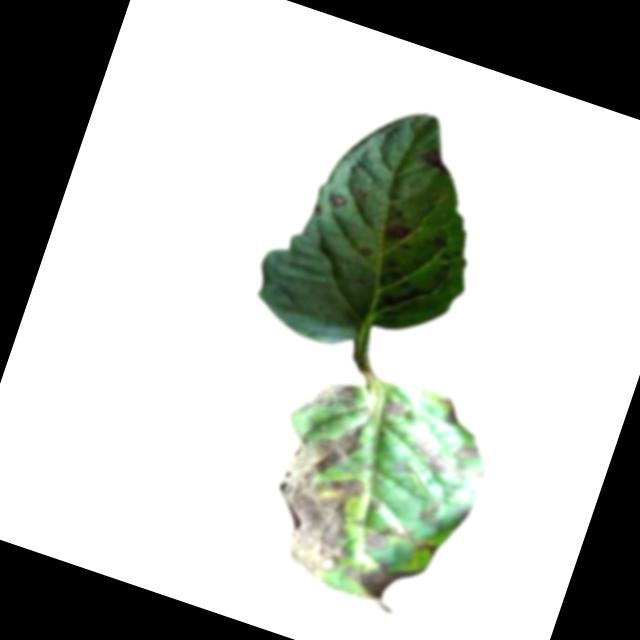Early_blight: (256, 408, 383, 583), (335, 549, 419, 618), (289, 363, 366, 432), (409, 427, 494, 486), (357, 515, 440, 572), (378, 395, 408, 422), (327, 190, 349, 210)
